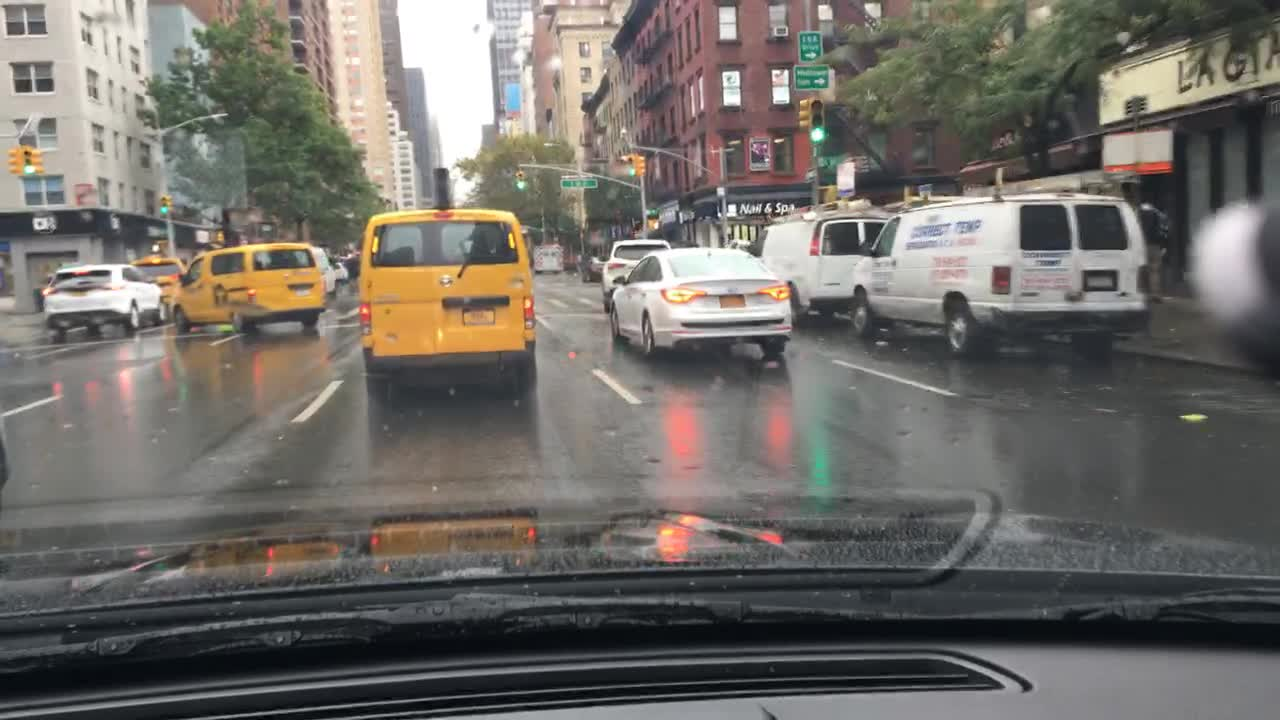car: (850, 189, 1151, 357), (355, 207, 540, 378), (607, 243, 794, 359), (747, 201, 901, 326), (166, 239, 325, 336), (41, 260, 168, 340), (600, 234, 677, 314), (126, 251, 189, 322), (311, 244, 337, 297), (530, 242, 563, 275), (580, 252, 603, 282), (335, 251, 359, 279), (329, 259, 350, 284)
person: (1135, 188, 1173, 304)
traffic light: (808, 99, 828, 146), (29, 146, 46, 175), (796, 98, 810, 133), (7, 144, 21, 172), (821, 184, 846, 199), (21, 147, 34, 173), (632, 154, 647, 176), (150, 238, 168, 253), (514, 171, 527, 191), (625, 153, 636, 176), (157, 194, 168, 213), (210, 229, 225, 242), (646, 219, 661, 232), (165, 194, 174, 213)
traffic sign: (792, 63, 829, 90), (796, 29, 823, 62), (835, 161, 856, 197), (559, 177, 598, 189), (645, 207, 658, 215)
